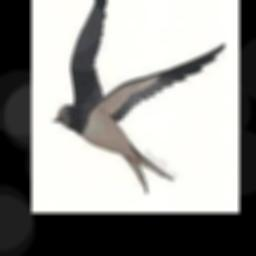Swallow: (51, 0, 225, 191)
